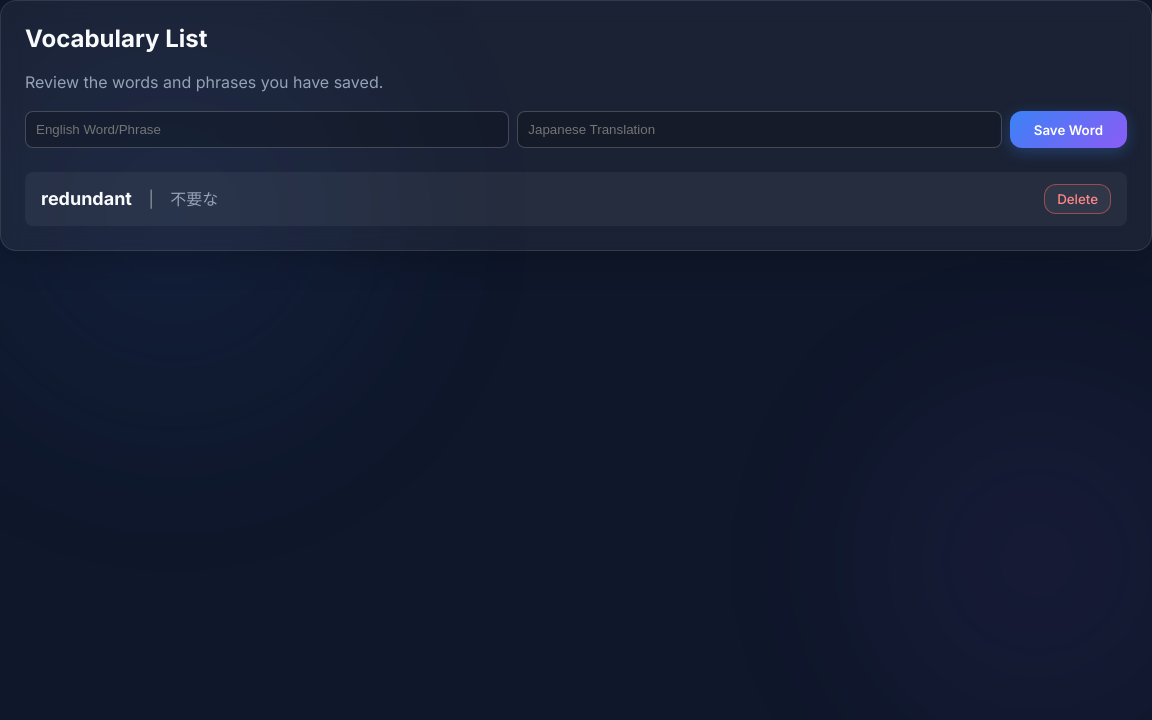
it: VocabularyManager Component › deletes vocabulary item when confirmed
This screenshot has width=1152, height=720.
Expected: the text "redundant" is shown, [41, 188, 132, 209]
Click the button "Delete".
click(1078, 199)  # box [1044, 184, 1111, 214]
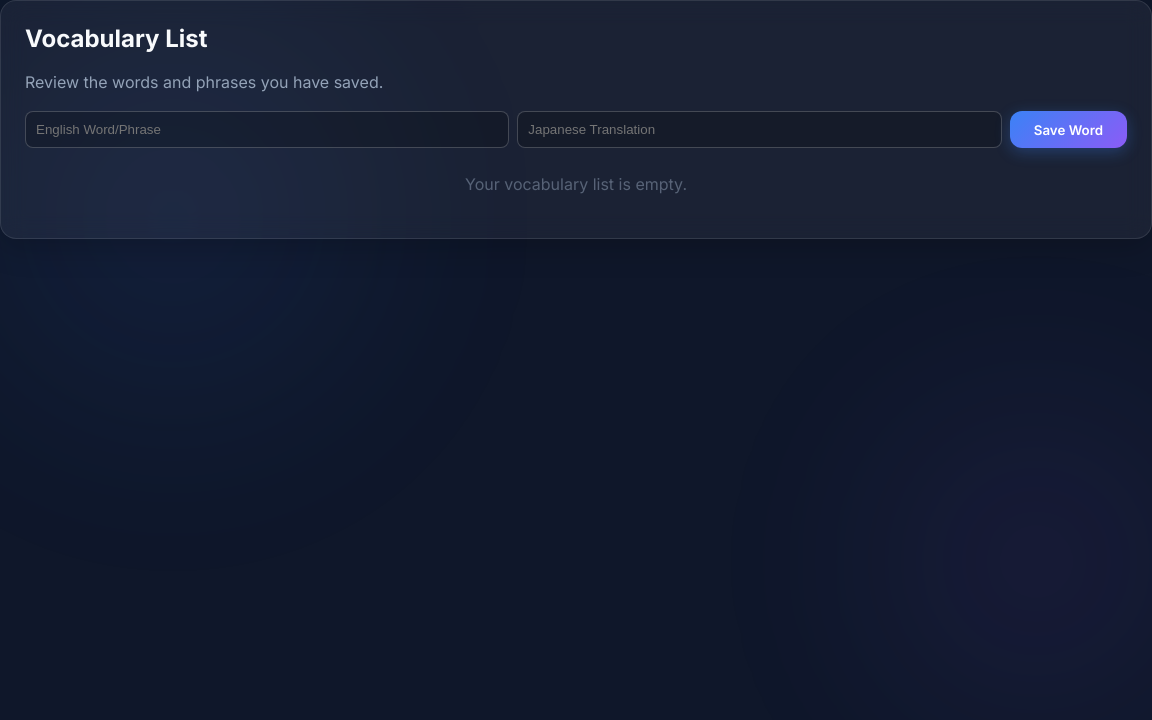
Now the text "Your vocabulary list is empty." is shown, box [465, 174, 687, 194]
